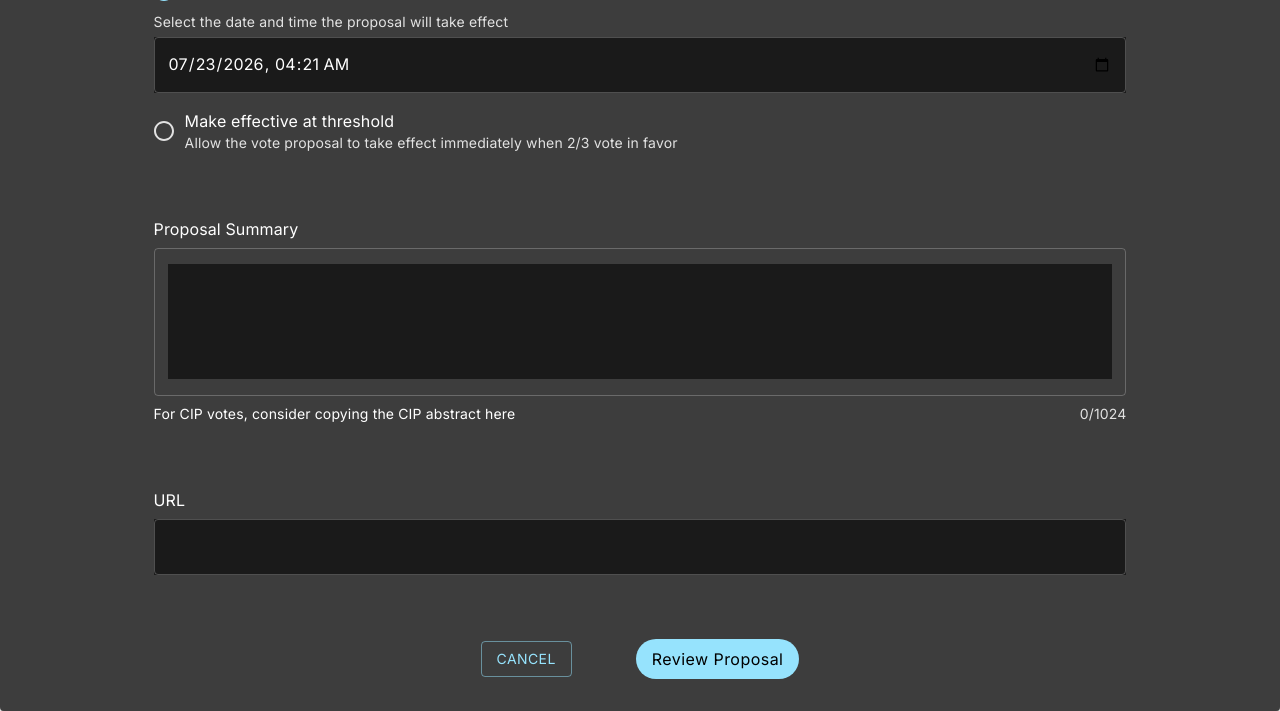
Test: CreateProposal › blocks review when required fields are missing
(page scrolled)
What coordinates should you click on to do the following:
click the button with test id "submit-button"
I would click on:
 (718, 659)
Its box is [636,639,799,679].
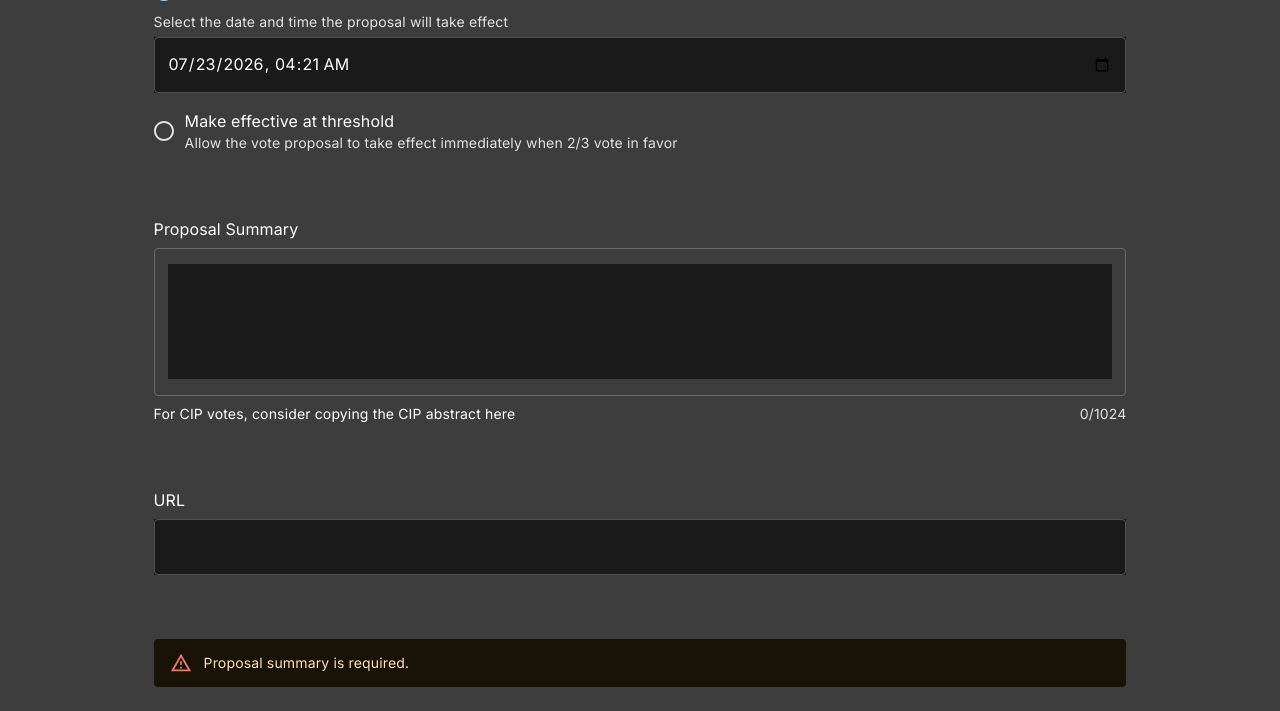
Result: the message "Proposal summary is required." is shown at [154,639,1126,687]
